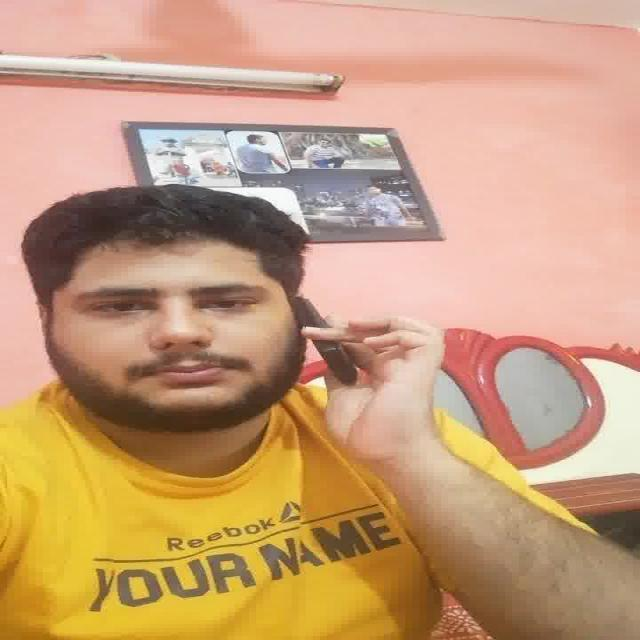Phone: (297, 292, 363, 386)
